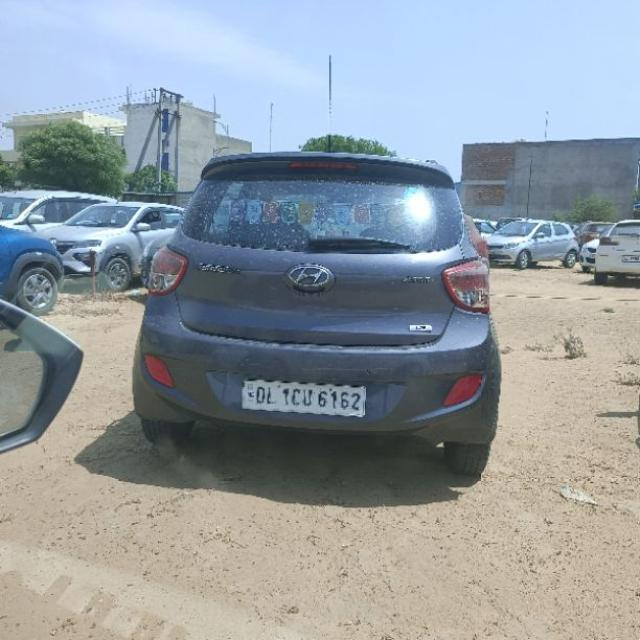license_plate: (239, 378, 366, 417)
